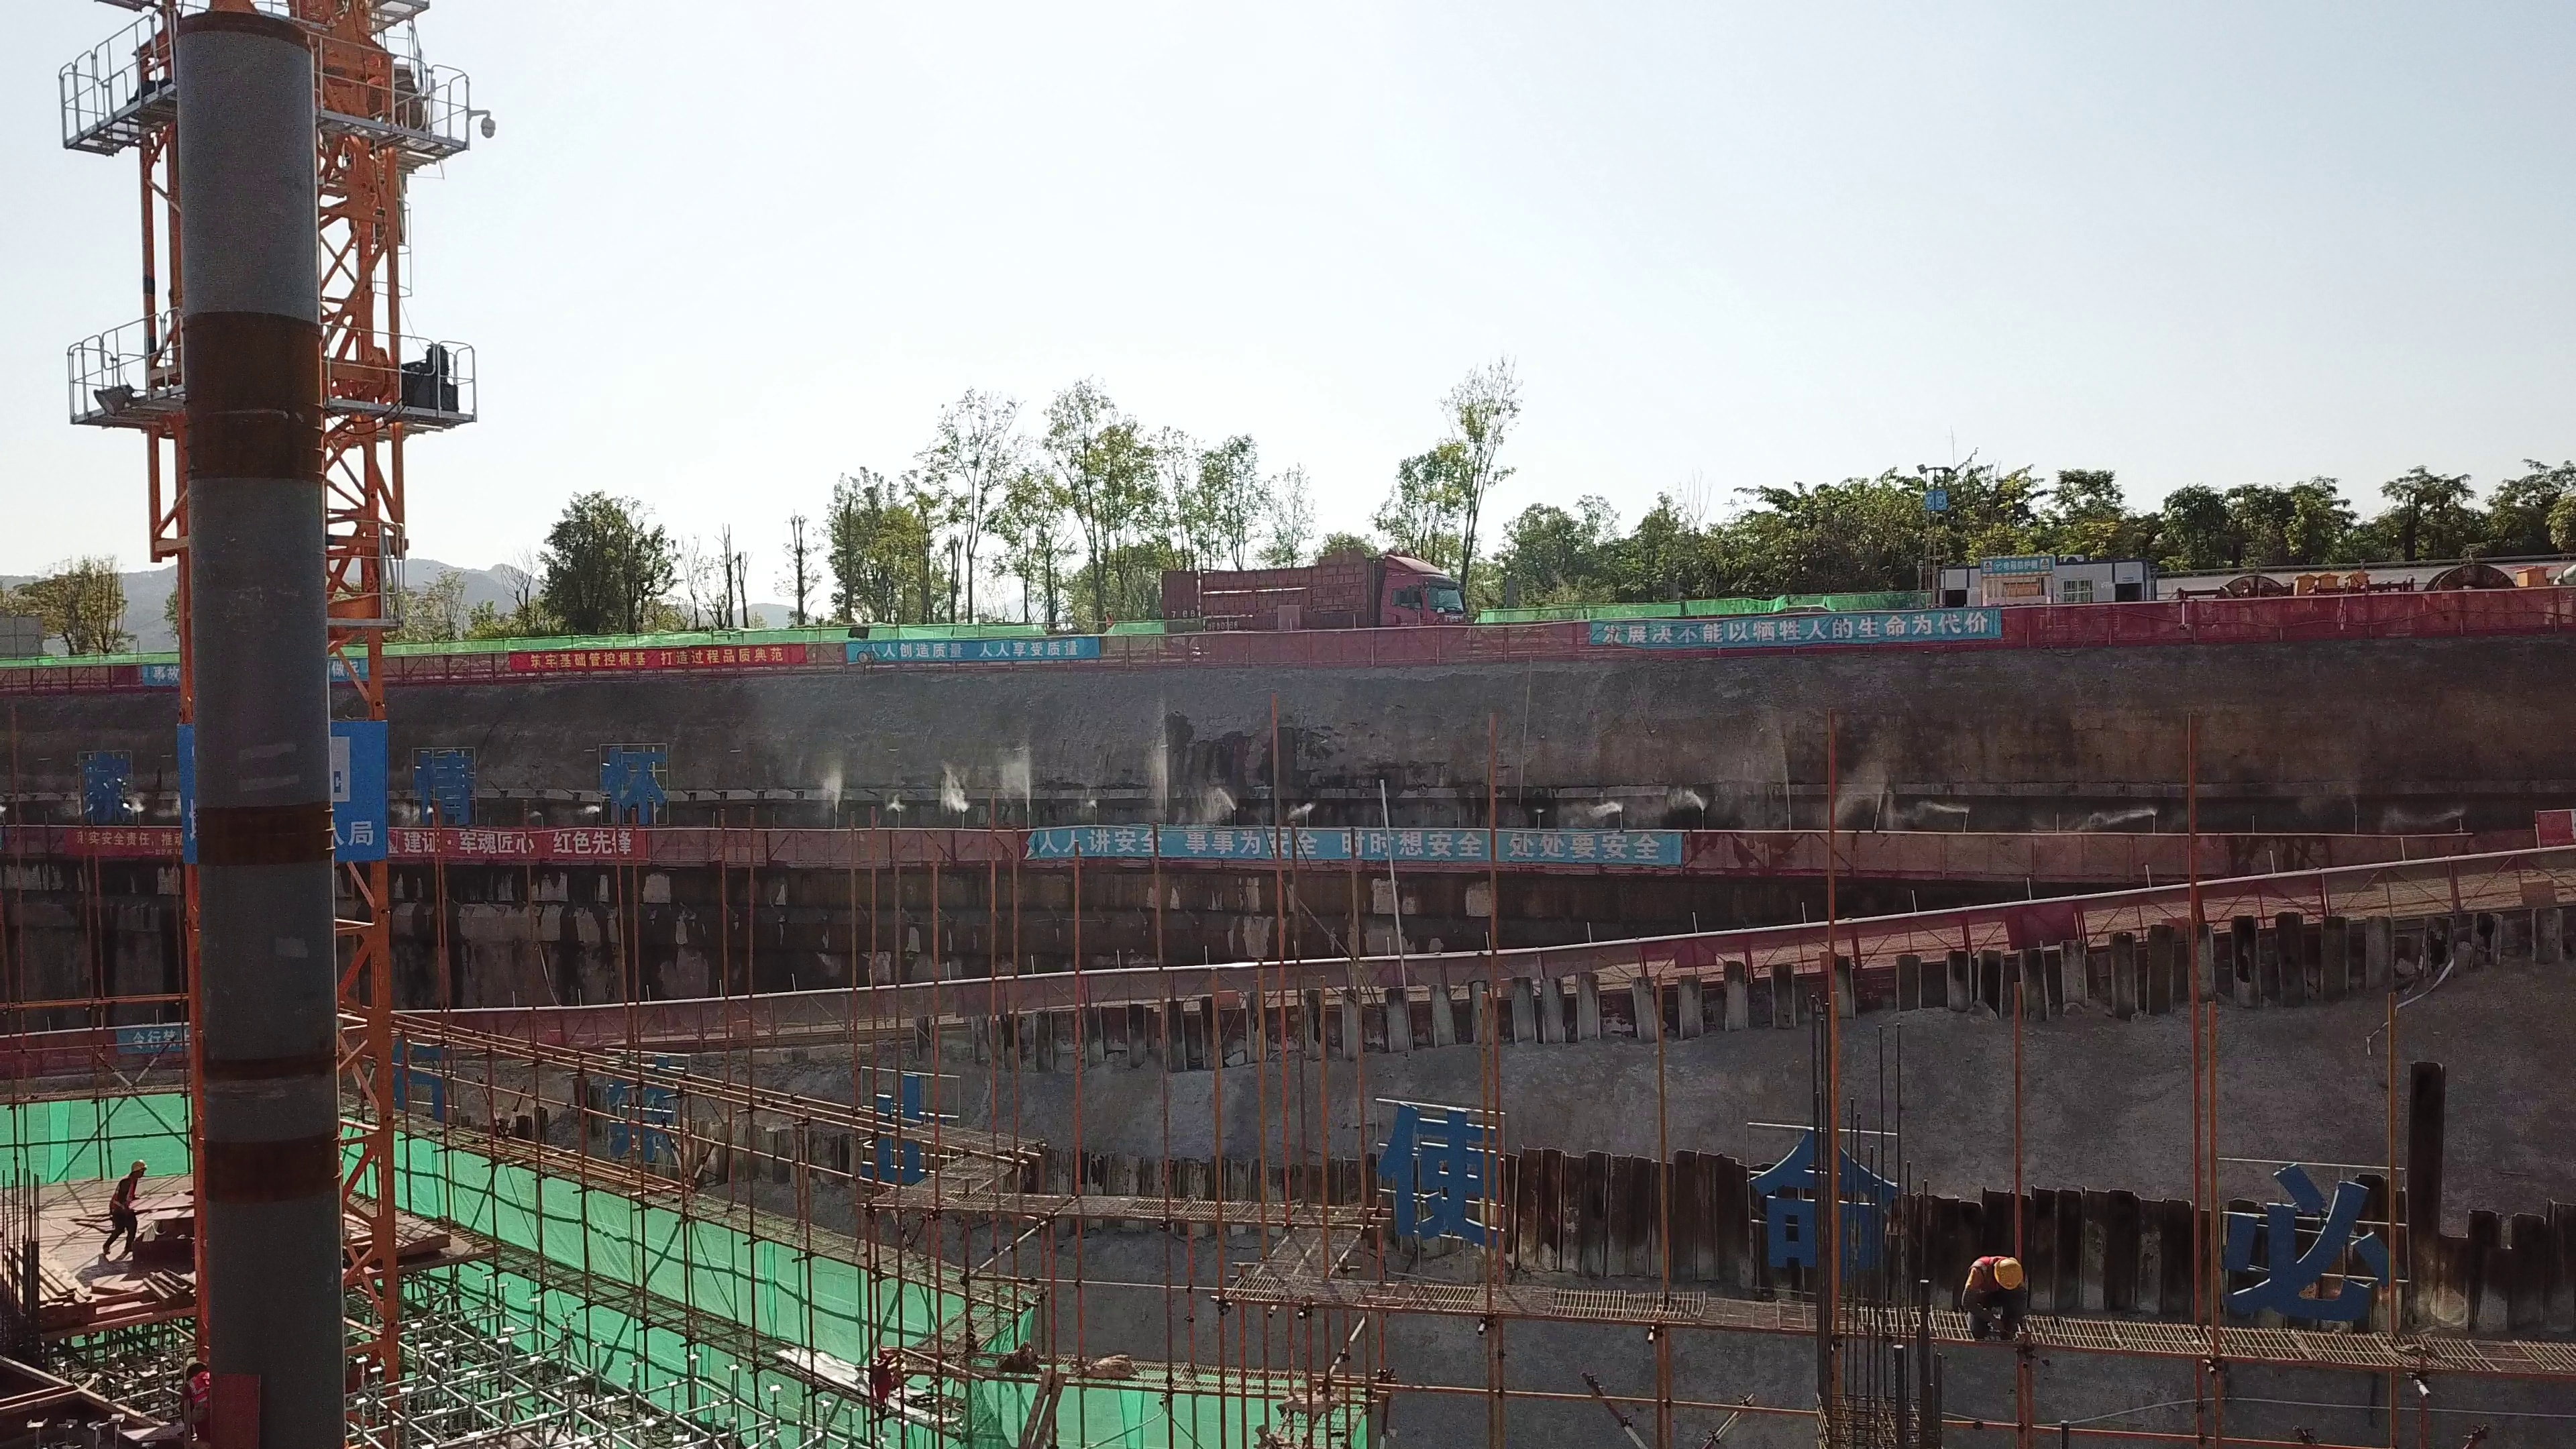fence: (2085, 845, 2556, 951), (1648, 908, 2088, 987), (2013, 587, 2555, 637), (1688, 821, 2090, 886), (1269, 936, 1644, 1006), (1097, 617, 1582, 669)
helmet: (1990, 1256, 2028, 1289), (128, 1158, 146, 1174)
person: (1950, 1246, 2037, 1346), (89, 1157, 150, 1261)
slogan: (1027, 815, 1682, 871), (1585, 614, 2009, 643), (502, 641, 804, 668), (394, 824, 641, 857), (847, 637, 1096, 665), (58, 827, 182, 857)
vest: (1962, 1248, 1993, 1296), (106, 1176, 139, 1215)
